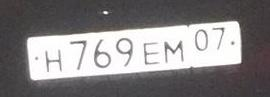license-plateSW: (27, 20, 243, 82)
